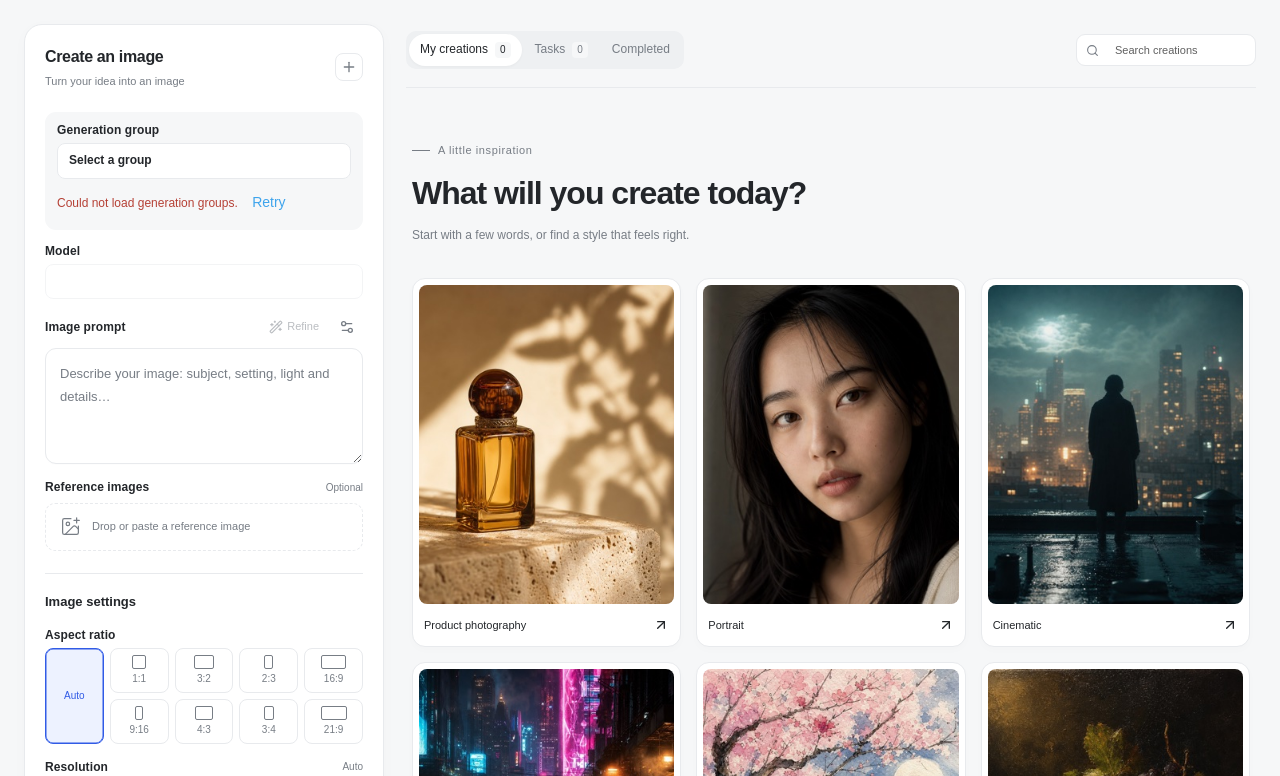
Scenario: keeps submission disabled and offers retry when groups fail to load
The width and height of the screenshot is (1280, 776).
Expected: the message shows "Could not load generation groups.", [57, 196, 238, 210]
Step 1. Click the button "Retry" → (269,202), box [241, 186, 297, 218]
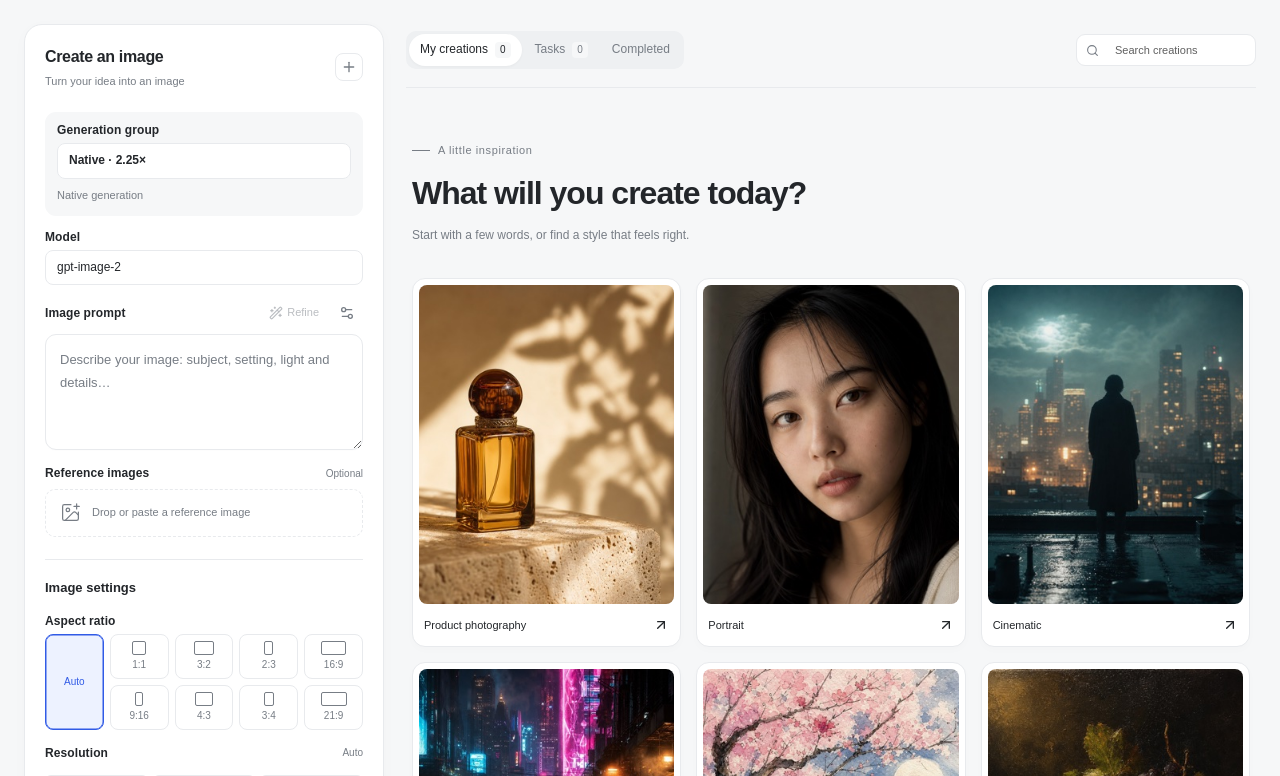
Expected: the text box labelled "Image prompt" is shown, [45, 334, 363, 450]
Now the dropdown labelled "Generation group" shows "Native · 2.25×", box [57, 142, 351, 178]
